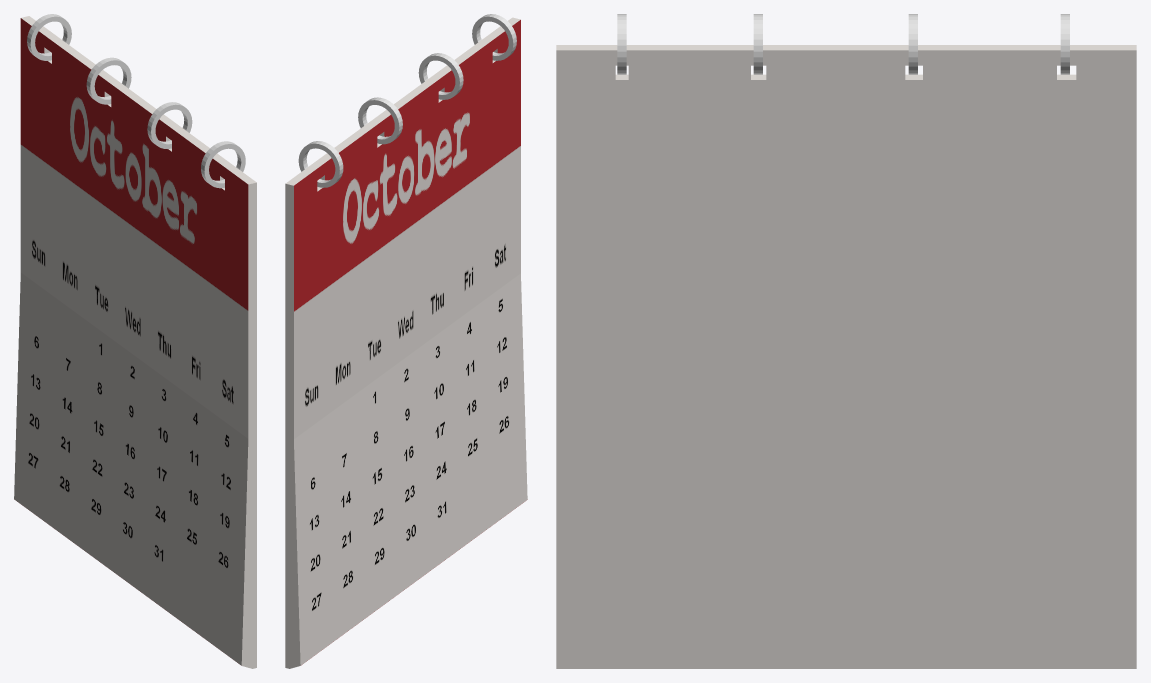
Rendered from Calendari.fbx.
3 views of the same model, side by side, from view 1: azimuth 30°, elevation 25°; view 2: azimuth 150°, elevation 25°; view 3: azimuth 270°, elevation 25° (orthographic). The views are drawn at different scales.
Visible parts, largest first — view 1: Paper, Cylinder.003, Cylinder.002, Cylinder.001, Cylinder; view 2: Paper, Cylinder.003, Cylinder.002, Cylinder, Cylinder.001; view 3: Paper.
Part boxes in pixels (<box>): Paper: <box>14,16,256,668</box>; Cylinder.003: <box>86,57,131,104</box>; Cylinder.002: <box>27,14,71,60</box>; Cylinder.001: <box>147,102,192,148</box>; Cylinder: <box>201,141,245,188</box>; Paper: <box>285,17,527,668</box>; Cylinder.003: <box>358,97,402,144</box>; Cylinder.002: <box>298,141,343,187</box>; Cylinder: <box>472,14,516,60</box>; Cylinder.001: <box>418,53,463,99</box>; Paper: <box>556,45,1136,668</box>.
Size of the model in its own units: 20.97 by 246 by 200.
